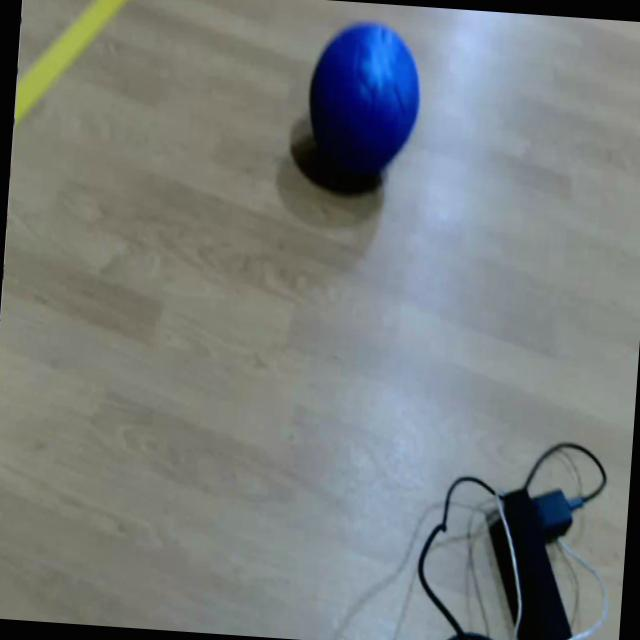blue_ball: (304, 16, 425, 184)
